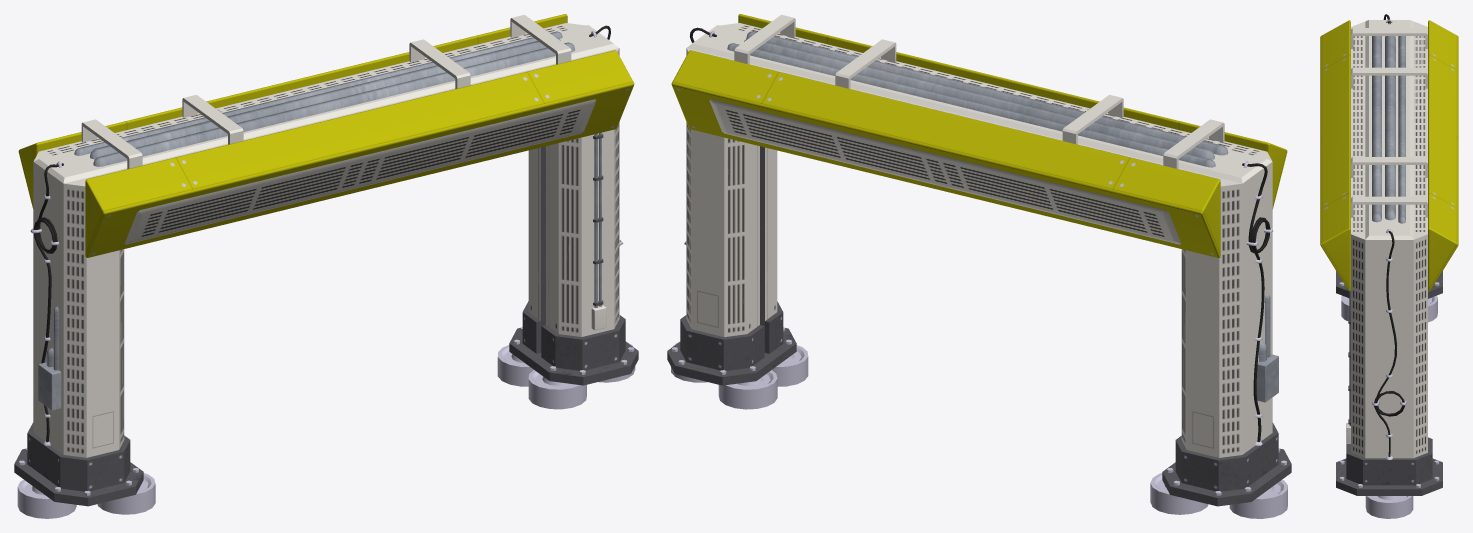
Rendered from arco.obj.
3 views of the same model, side by side, from view 1: azimuth 30°, elevation 25°; view 2: azimuth 150°, elevation 25°; view 3: azimuth 270°, elevation 25° (orthographic). The views are drawn at different scales.
Parts seen in each view (by area): view 1: Body_model__MGGate; view 2: Body_model__MGGate; view 3: Body_model__MGGate.
Part boxes in pixels (x1,y1,x2,y2): Body_model__MGGate: (14, 14, 638, 518); Body_model__MGGate: (667, 14, 1291, 518); Body_model__MGGate: (1320, 14, 1458, 518).
Size of the model in its own units: 22.96 by 12.94 by 5.61.
